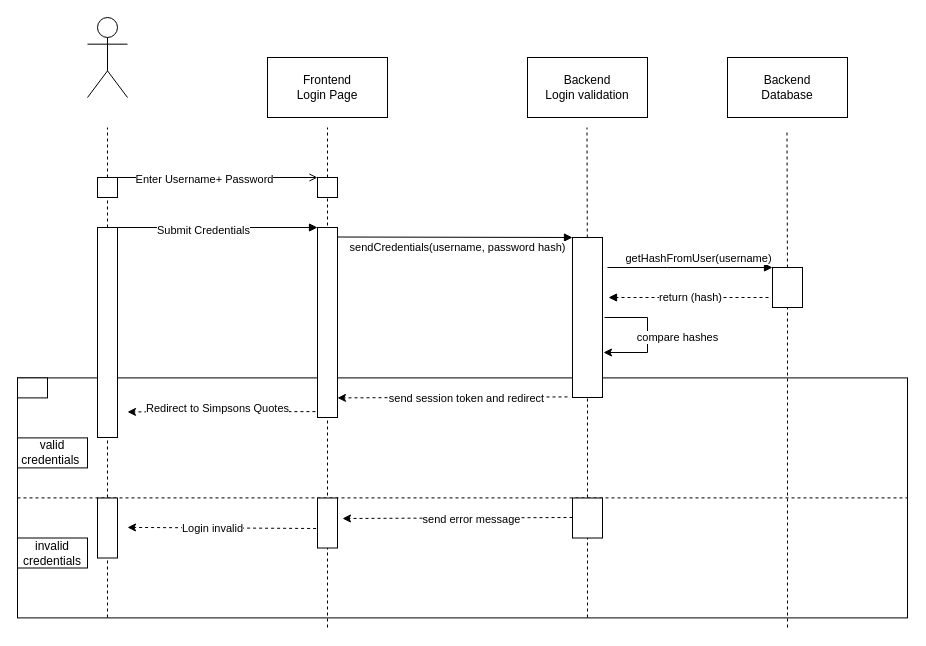
The diagram is 926 pixels wide and 646 high, and some of its shapes have lost their labels. The shapes that lost their labels are listed below. From the top down, each one's box as (x1, y1, x2, y2) in pixels, then its label:
(86, 16, 128, 98): User
(16, 377, 48, 398): alt
